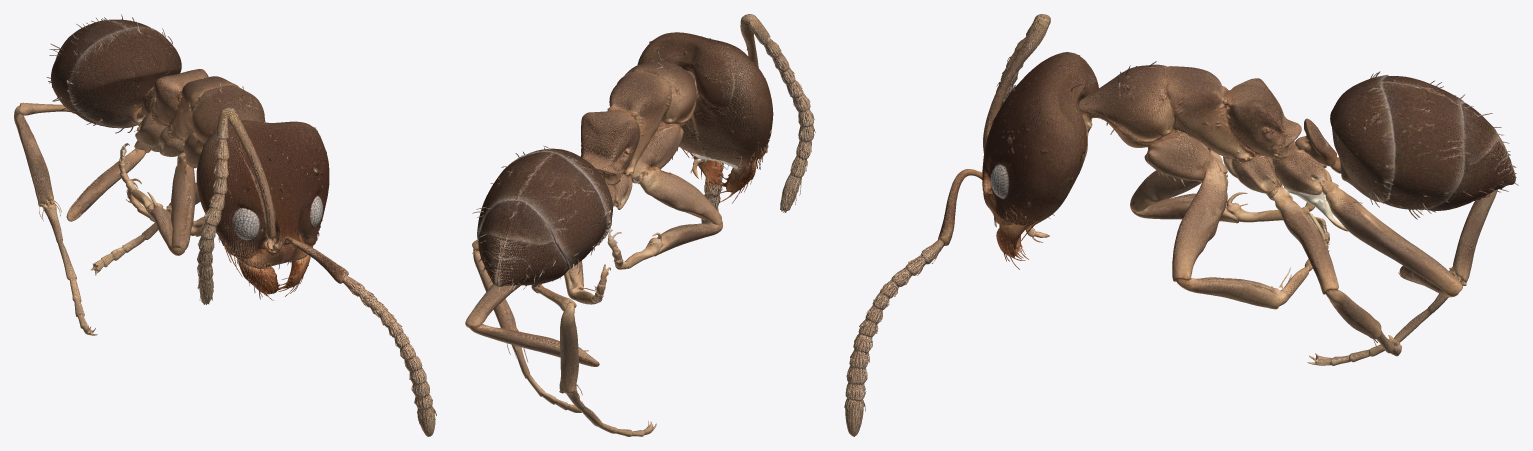
The model's file is esp1.glb.
The picture shows the model from 3 angles, left to right: view 1: azimuth 30°, elevation 25°; view 2: azimuth 150°, elevation 25°; view 3: azimuth 270°, elevation 25°; orthographic projection. The views are drawn at different scales.
Bounding box in the file's own units: 0.7155 × 1.12 × 1.89.
1 material, 1 textured.
